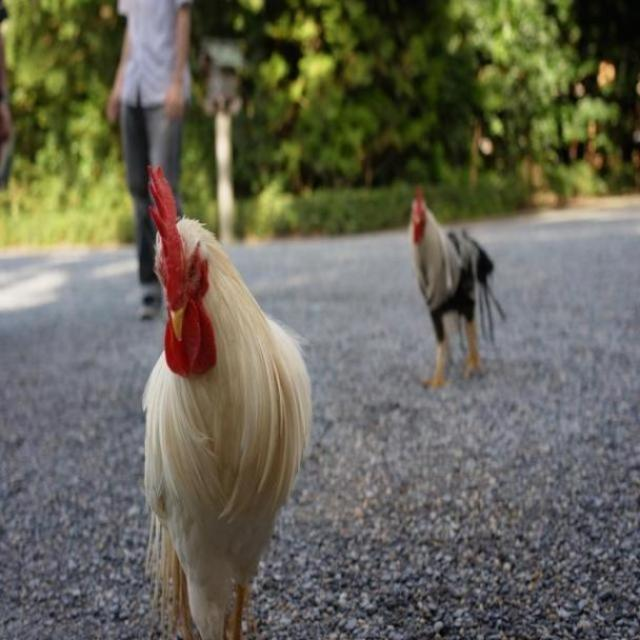Chicken: (143, 176, 320, 638), (411, 184, 508, 390)
